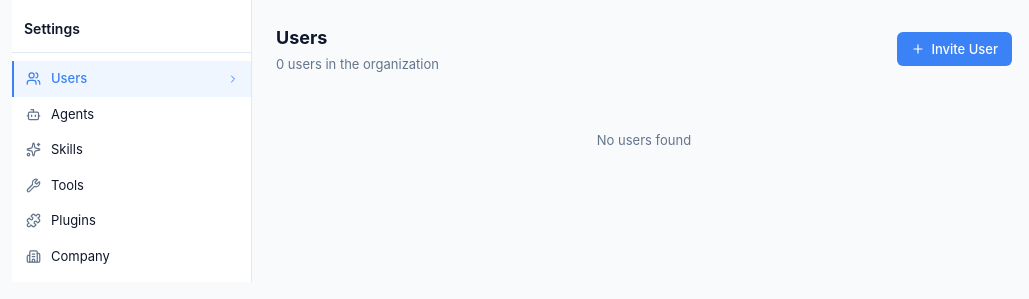
Test: SettingsScreen › clicking "Agents" nav shows agents section
This screenshot has width=1029, height=299.
Step 1. Click the button "Agents" → (132, 114), box [12,96,251,132]
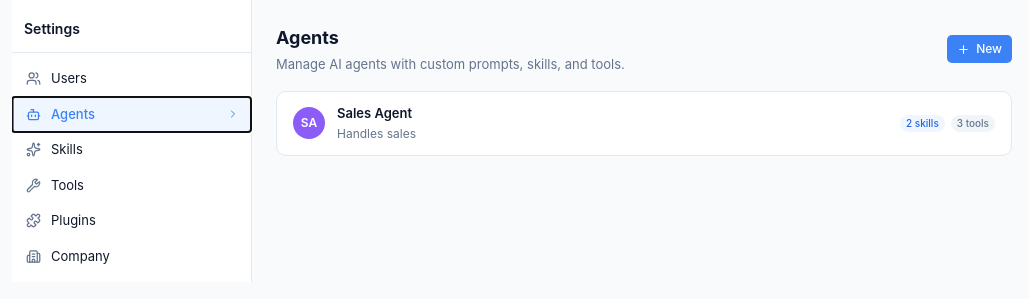
Expected: the heading "Agents" is shown, [276,27,339,48]
Expected: the text "Sales Agent" is shown, [337,104,412,123]
